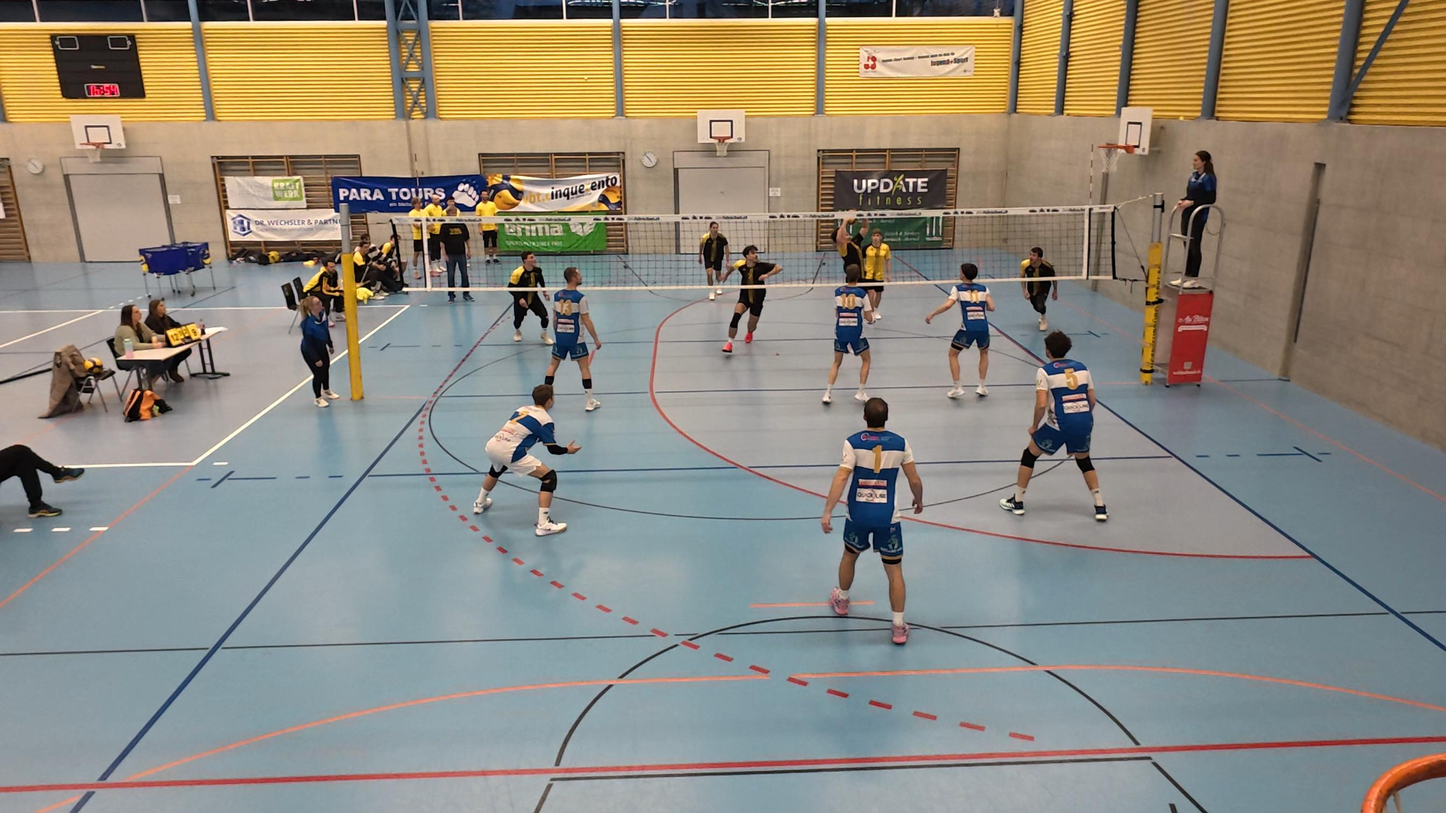Player: (820, 397, 923, 645), (1006, 333, 1109, 521), (471, 382, 578, 536), (924, 265, 994, 401), (544, 270, 599, 409), (819, 275, 877, 406), (722, 246, 773, 354), (1019, 245, 1060, 351), (504, 255, 550, 347), (859, 229, 891, 326), (698, 220, 729, 300)
Set: (823, 217, 859, 282)
ball: (842, 202, 859, 228)
